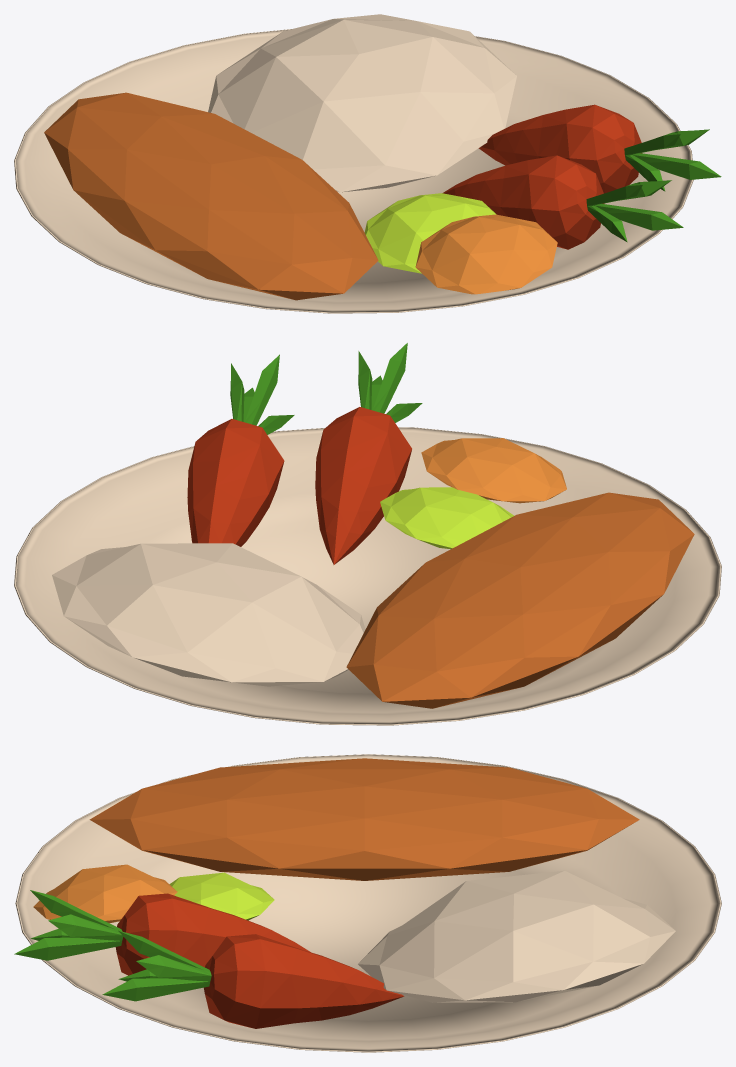
Rendered from Tonkatsu.fbx.
3 renders of one model, top to bottom at view 1: azimuth 30°, elevation 25°; view 2: azimuth 150°, elevation 25°; view 3: azimuth 270°, elevation 25°, orthographic. The views are drawn at different scales.
Visible parts, largest first — view 1: Tonkatsu; view 2: Tonkatsu; view 3: Tonkatsu.
Part boxes in pixels (<box>): Tonkatsu: <box>14,14,721,313</box>; Tonkatsu: <box>14,343,721,725</box>; Tonkatsu: <box>14,754,721,1052</box>.
Bounding box in the file's own units: 7851 × 1421 × 7866.
